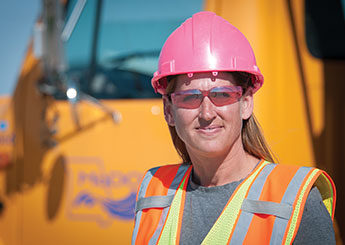hard-hat: (149, 11, 266, 96)
